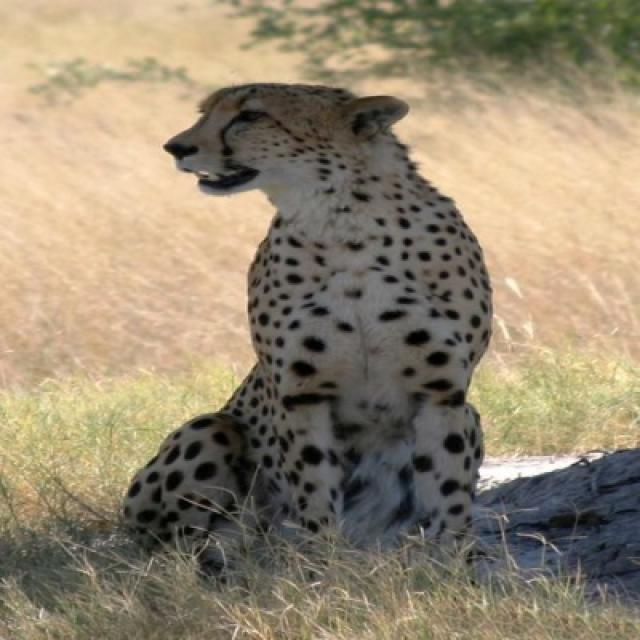Cheetah: (120, 85, 494, 558)
